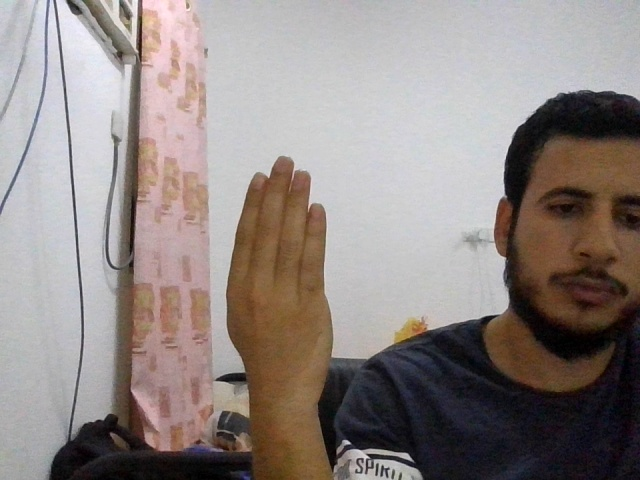Four: (226, 154, 334, 395)
